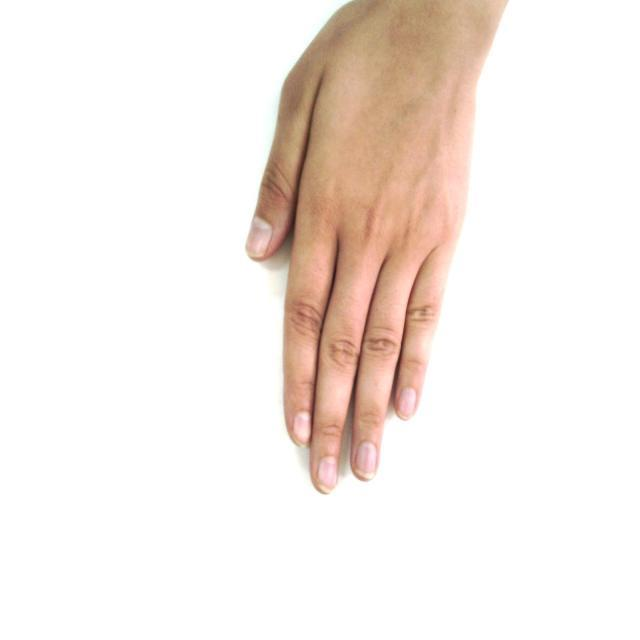Fingernail: (247, 217, 272, 256), (355, 442, 376, 479), (318, 458, 338, 492), (398, 389, 416, 420), (294, 413, 310, 444)
